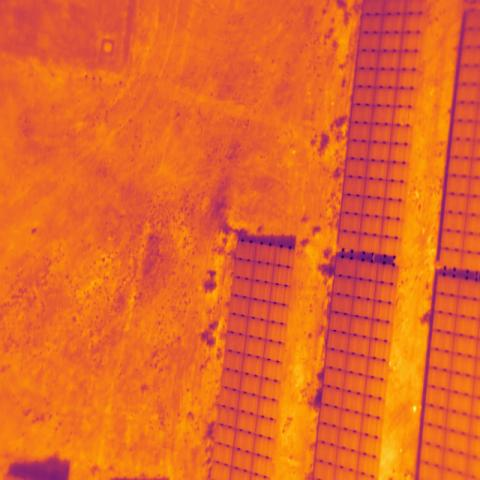fault: (394, 106, 413, 126)
